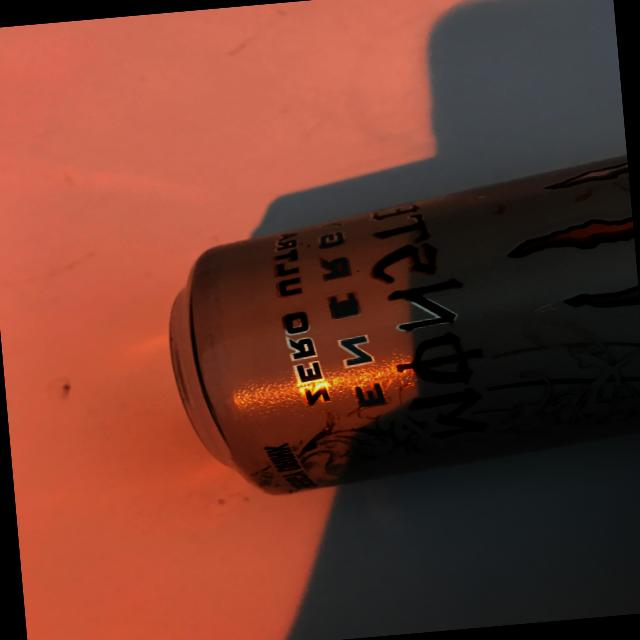Metal: (137, 140, 640, 544)
